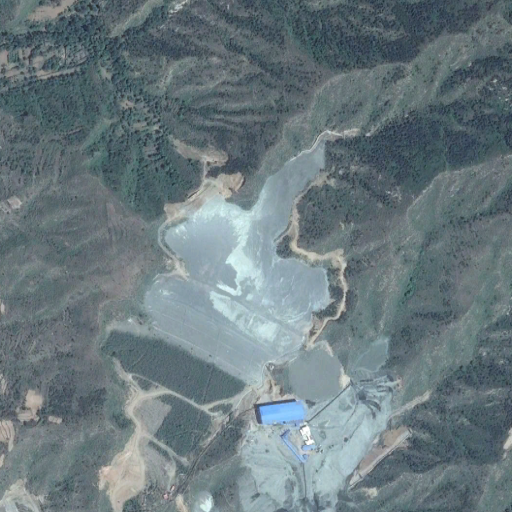tp: (103, 142, 329, 483)
